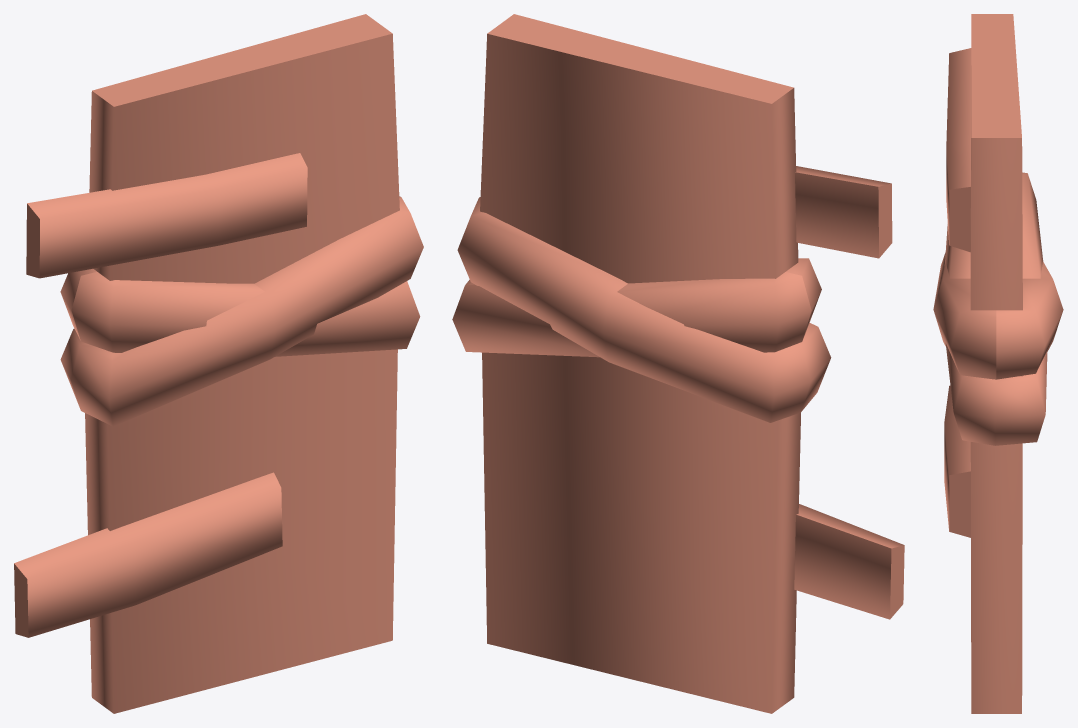
The model's file is shutter_03.fbx.
The picture shows the model from 3 angles, left to right: view 1: azimuth 30°, elevation 25°; view 2: azimuth 150°, elevation 25°; view 3: azimuth 270°, elevation 25°; orthographic projection. The views are drawn at different scales.
Parts seen in each view (by area): view 1: Cube.192; view 2: Cube.192; view 3: Cube.192.
Boxes of the visible parts, x1,y1,x2,y2 form: Cube.192: [14, 14, 423, 713]; Cube.192: [452, 14, 904, 713]; Cube.192: [933, 14, 1063, 713].
Bounding box in the file's own units: 0.765 × 1.1 × 0.2226.
